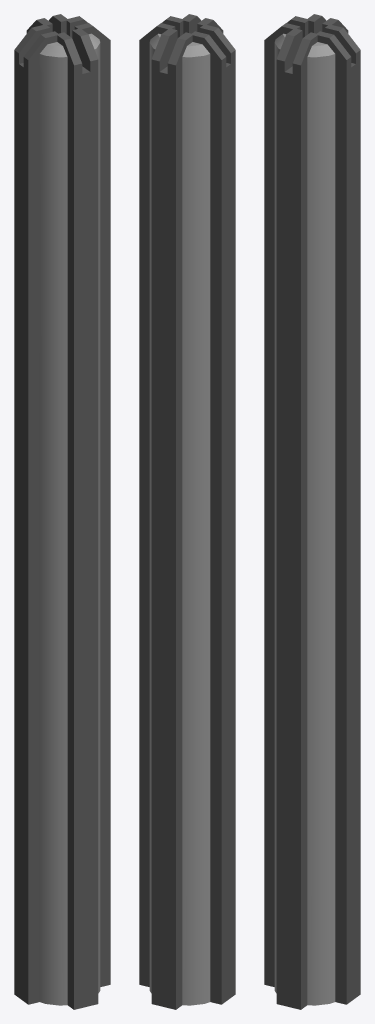
File: Elevator_Middle.fbx
3 renders of one model, left to right at view 1: azimuth 30°, elevation 25°; view 2: azimuth 150°, elevation 25°; view 3: azimuth 330°, elevation 25°, orthographic.
Parts seen in each view (by area): view 1: Cube.023; view 2: Cube.023; view 3: Cube.023.
Boxes of the visible parts, box(x1,y1,x2,y2) form: Cube.023: box(14, 14, 110, 1009); Cube.023: box(139, 14, 235, 1009); Cube.023: box(264, 14, 360, 1009).
Bounding box in the file's own units: 80.28 × 897 × 80.28.
